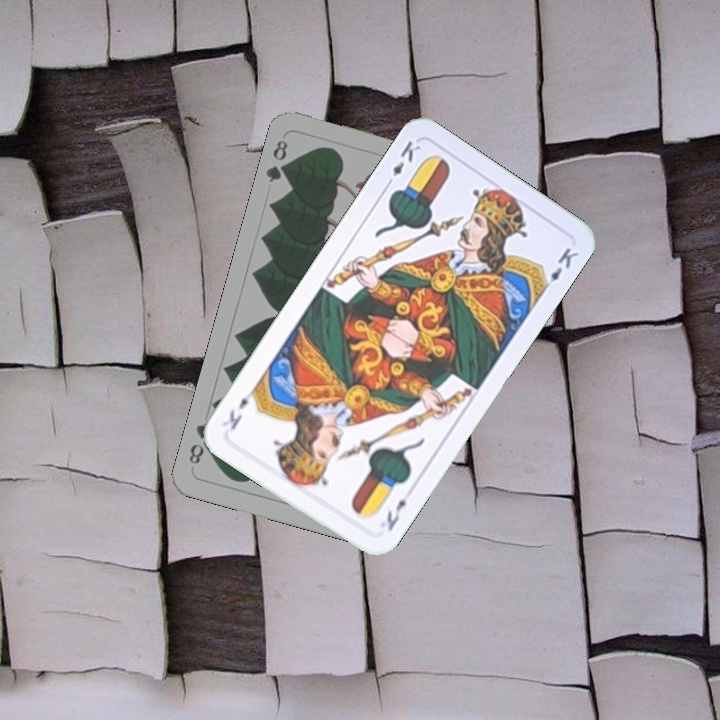EK: (381, 136, 424, 191), (382, 495, 409, 534)
G8: (262, 136, 295, 185)
